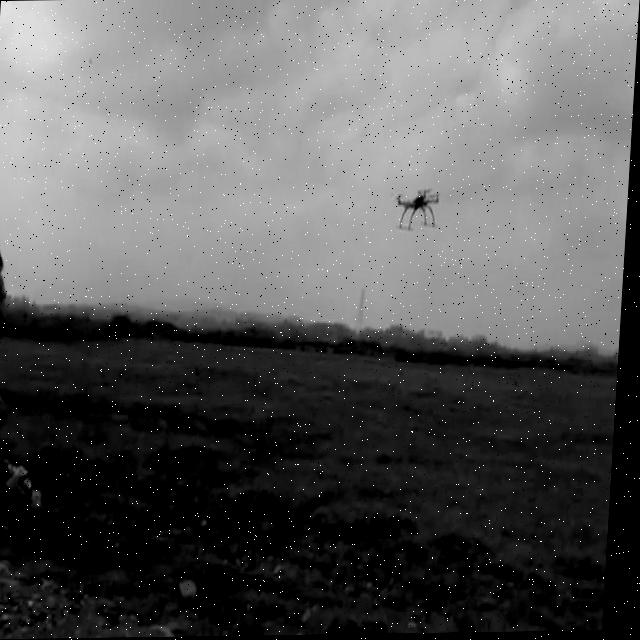drone: (387, 182, 445, 236)
